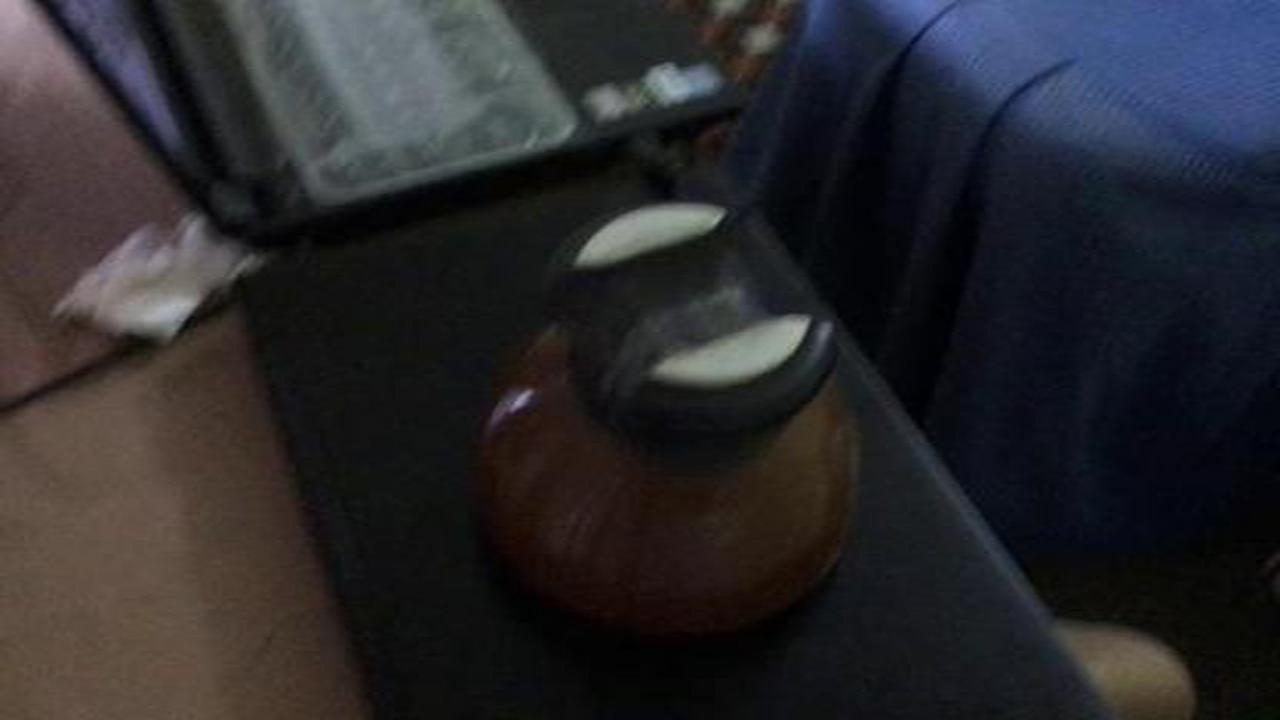insulator_pin: (455, 186, 890, 660)
